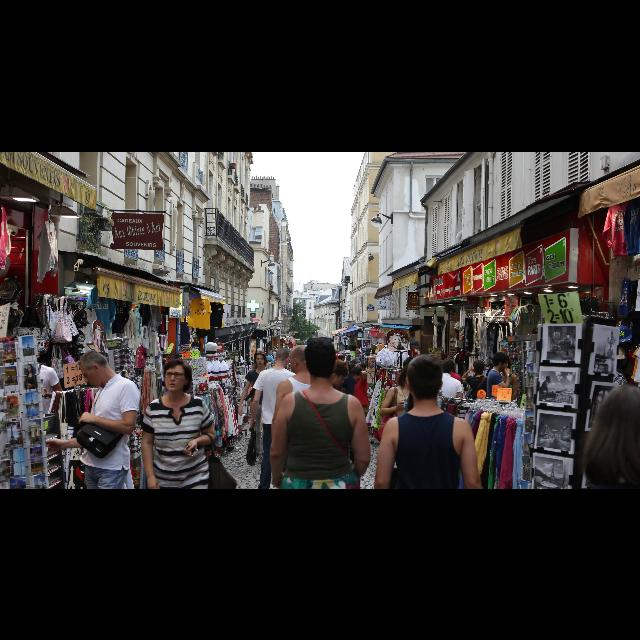head: (406, 354, 444, 400), (304, 337, 338, 379), (80, 348, 108, 388), (164, 361, 190, 392), (288, 343, 314, 371), (404, 361, 426, 387), (20, 342, 40, 362), (275, 347, 291, 368), (493, 352, 509, 371), (255, 350, 267, 366), (352, 366, 364, 380), (441, 360, 453, 374), (473, 360, 485, 372), (500, 358, 510, 370)
person: (235, 347, 283, 465), (422, 358, 466, 464), (460, 356, 492, 439), (485, 350, 513, 442), (492, 354, 520, 444), (346, 362, 372, 444)
